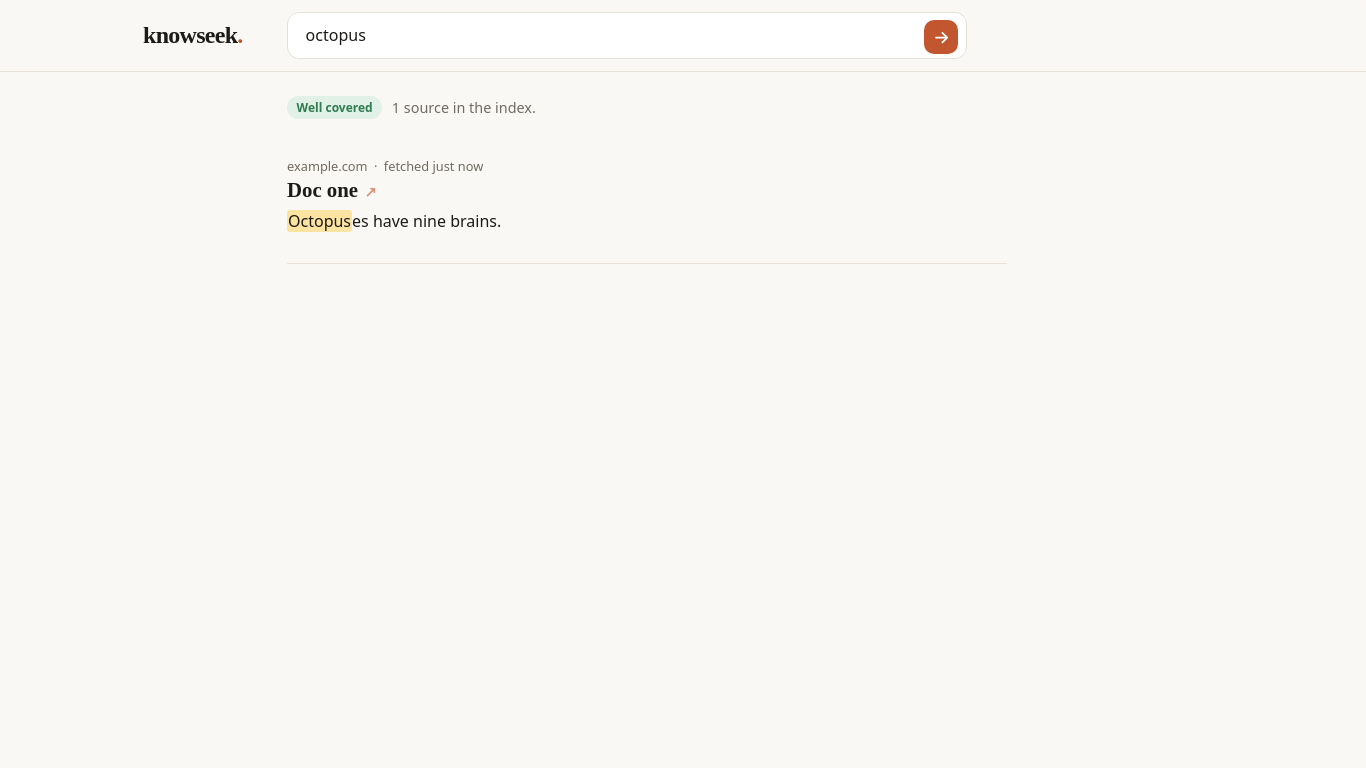
Scenario: App › opens a document in the reader and closes it with Escape
Click the button "Doc one" at (322, 190), box [287, 178, 358, 202]
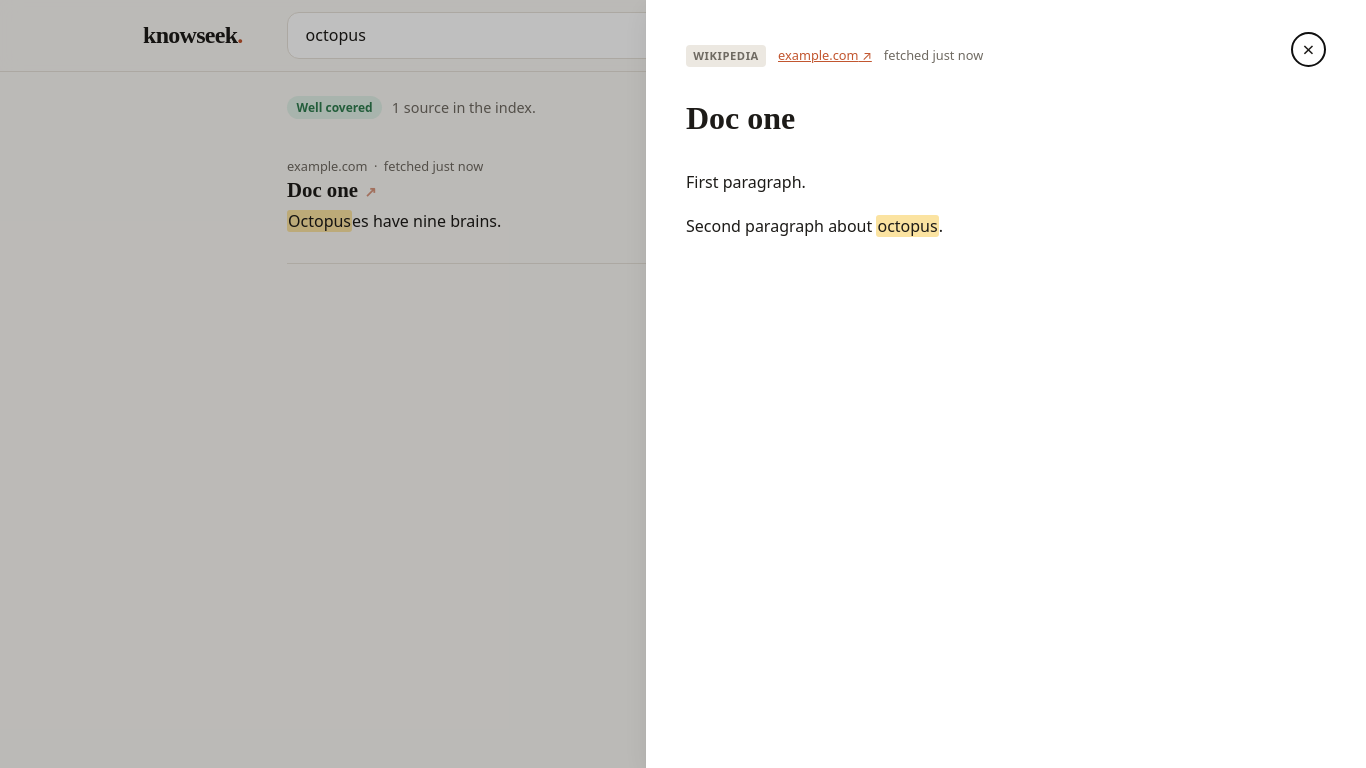
expect the dialog shows "Second paragraph": met, box [686, 215, 876, 237]
Press Escape
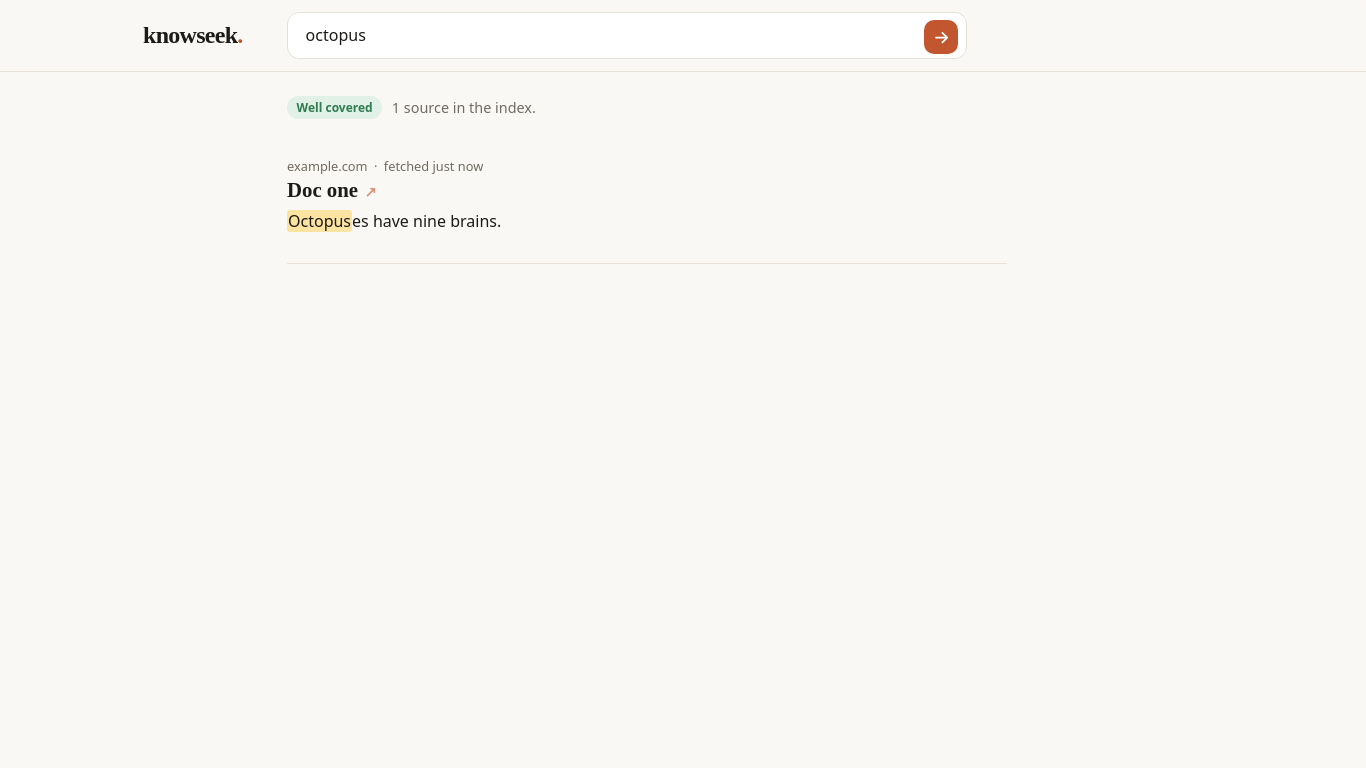
expect the dialog is gone: met
